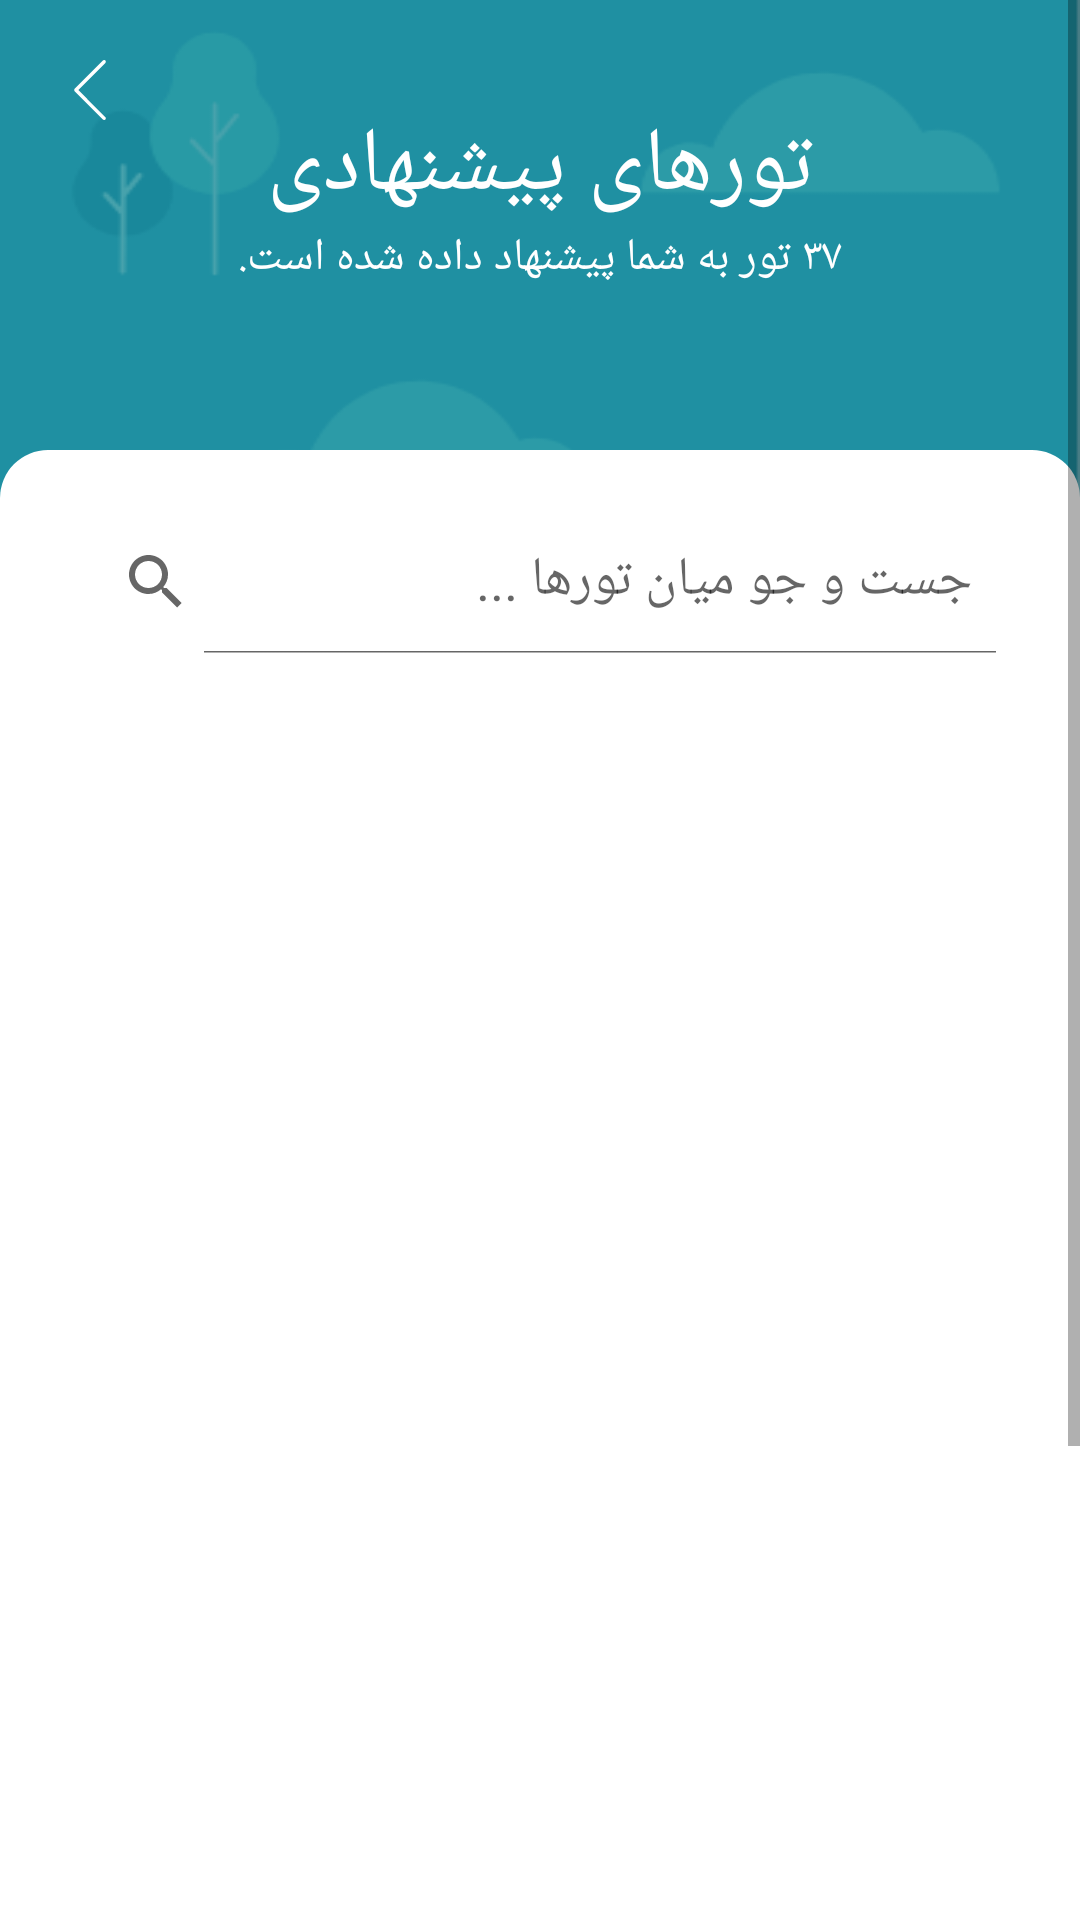

Where icons sit on this 1080w x 1920h app screen, as [x1, y1, x2, y2]:
arrow back: [74, 60, 106, 120]
